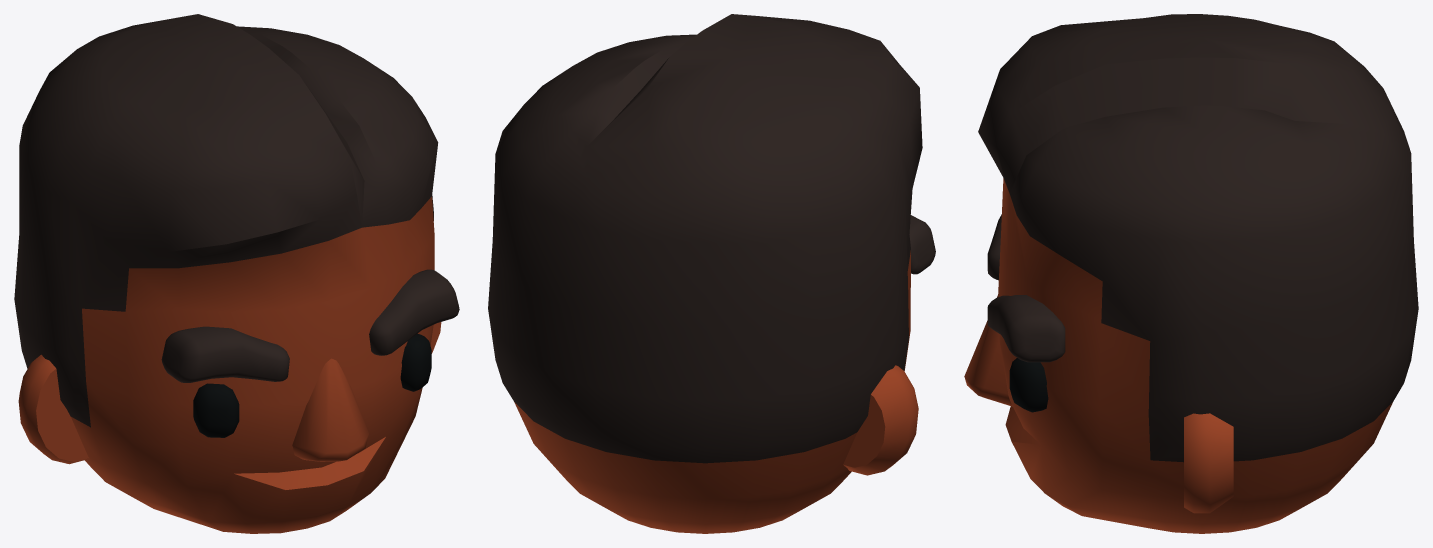
File: knightHeadB.obj
3 renders of one model, left to right at view 1: azimuth 30°, elevation 25°; view 2: azimuth 150°, elevation 25°; view 3: azimuth 270°, elevation 25°, orthographic.
Visible parts, largest first — view 1: knightHeadB_Cube.3515; view 2: knightHeadB_Cube.3515; view 3: knightHeadB_Cube.3515.
Part boxes in pixels (box(x1,y1,x2,y2)): knightHeadB_Cube.3515: box(14, 14, 459, 533); knightHeadB_Cube.3515: box(488, 14, 935, 533); knightHeadB_Cube.3515: box(964, 14, 1418, 533).
Size of the model in its own units: 1.18 by 1.19 by 1.11.
